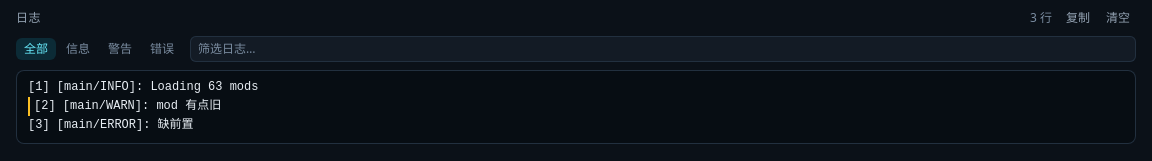
Scenario: LogPanel 筛选与复制 › 筛选后显示「可见 / 总数」
Click the button "错误": click(162, 49) [142,38,182,60]
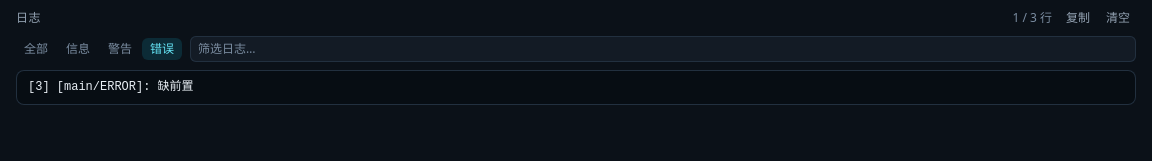
Result: the text "1 / 3 行" is shown at [1012,9,1052,27]
